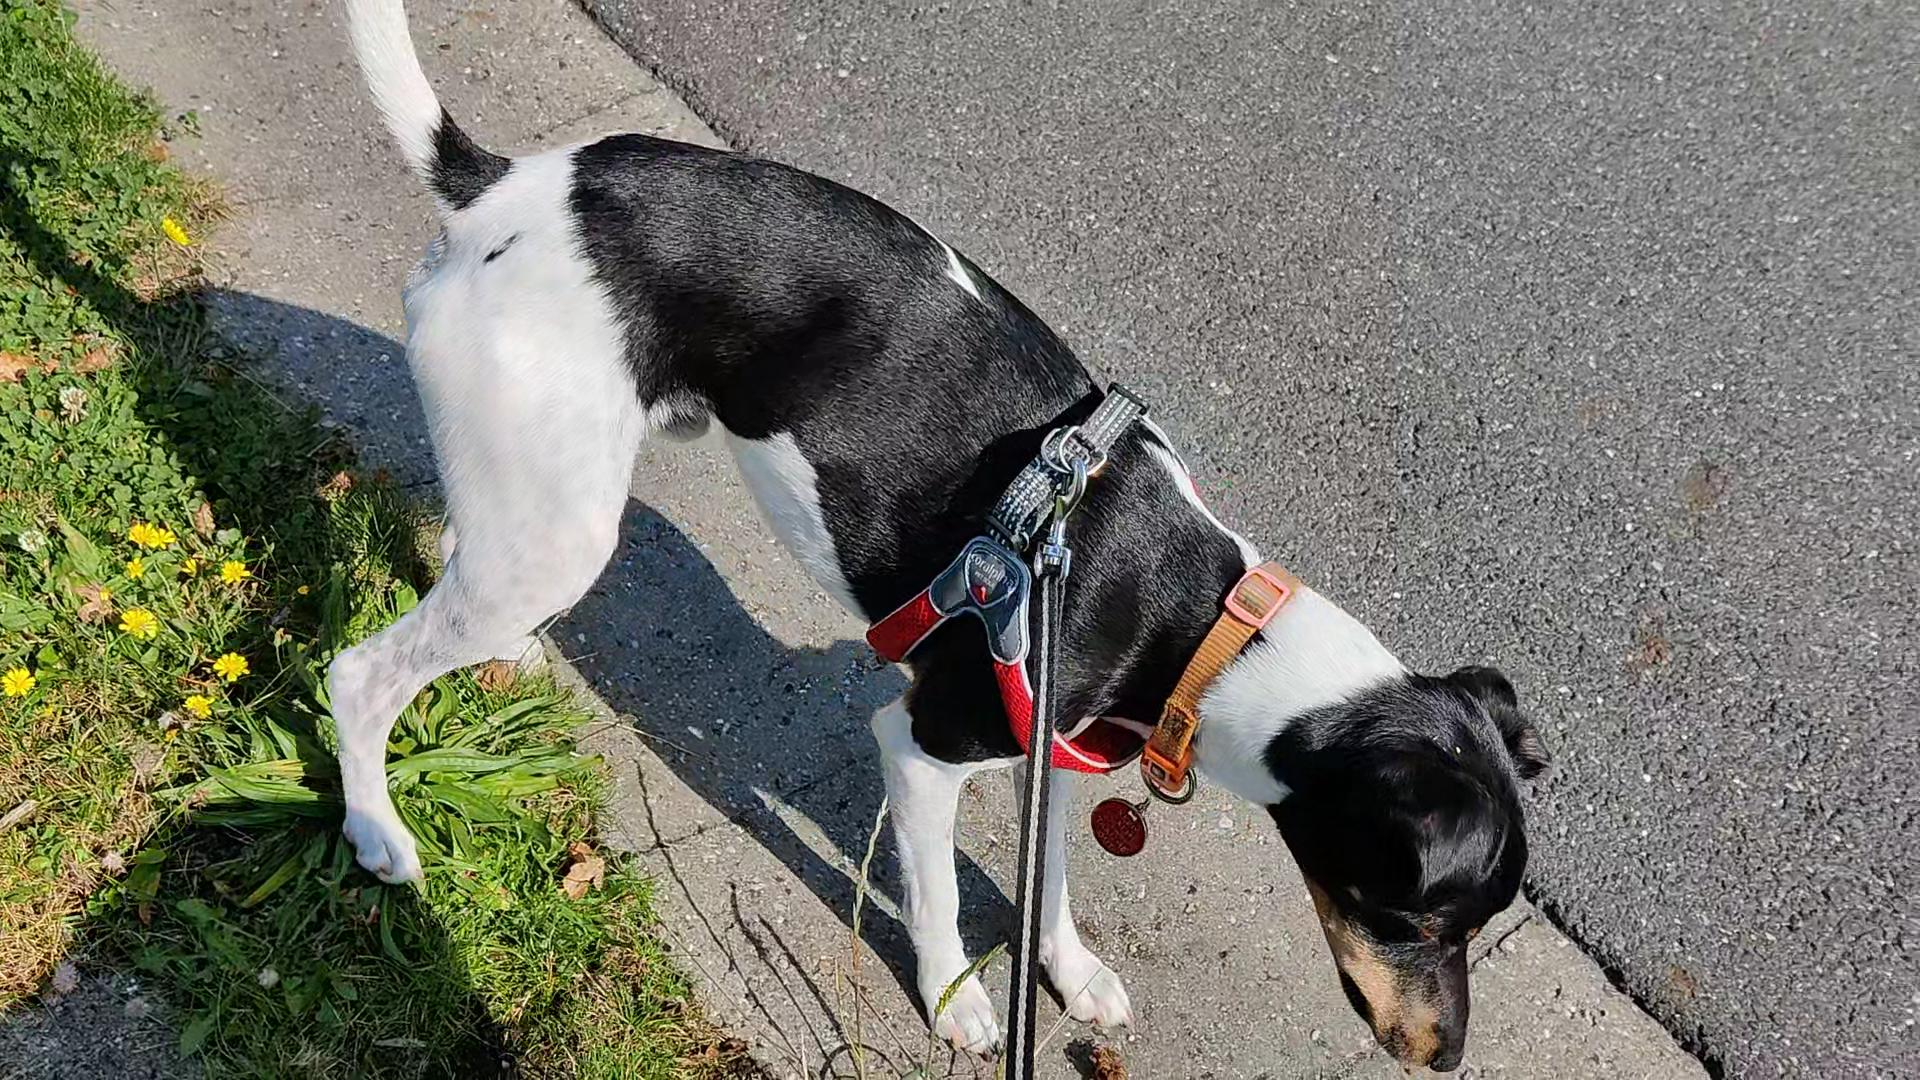Dog: (313, 0, 1553, 1076)
